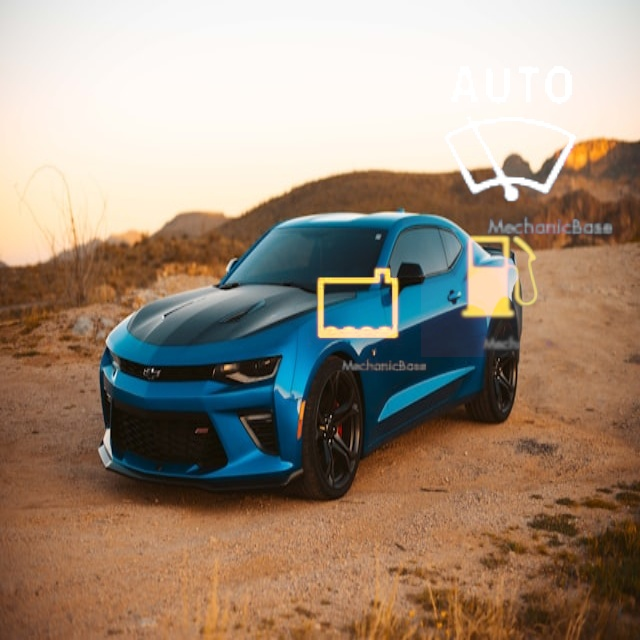symbol: (402, 26, 621, 245), (421, 198, 580, 357), (284, 230, 432, 378)
